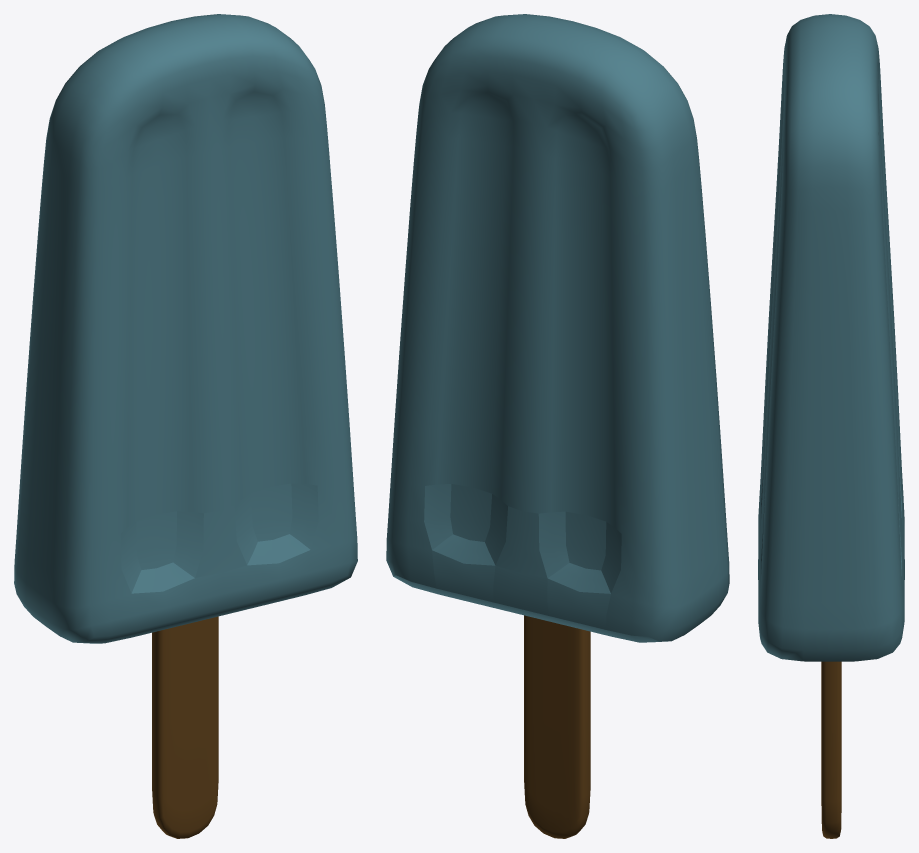
The picture shows the model from 3 angles, left to right: view 1: azimuth 30°, elevation 25°; view 2: azimuth 150°, elevation 25°; view 3: azimuth 270°, elevation 25°; orthographic projection.
Visible parts, largest first — view 1: Body, Stick; view 2: Body, Stick; view 3: Body, Stick.
Part boxes in pixels (<box>): Body: <box>14,14,357,643</box>; Stick: <box>152,616,218,838</box>; Body: <box>386,14,729,642</box>; Stick: <box>524,615,590,838</box>; Body: <box>758,14,904,661</box>; Stick: <box>821,661,841,838</box>.
Bounding box in the file's own units: 15.4 × 6.71 × 40.31.
